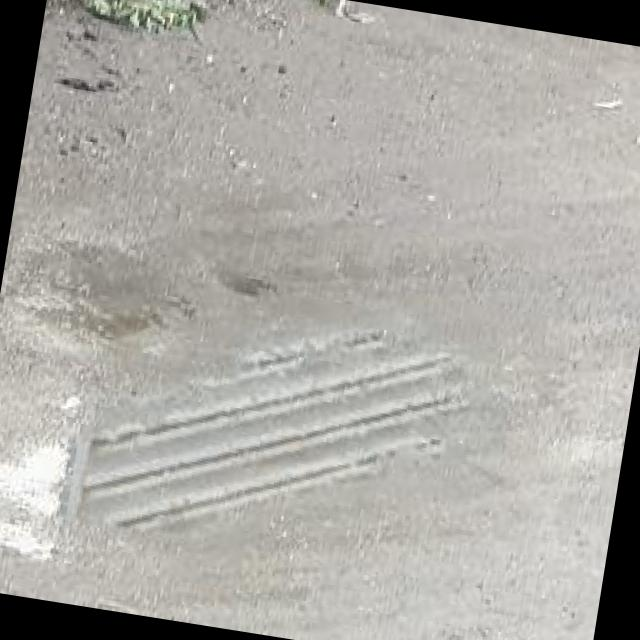stagnation: (0, 199, 255, 372)
